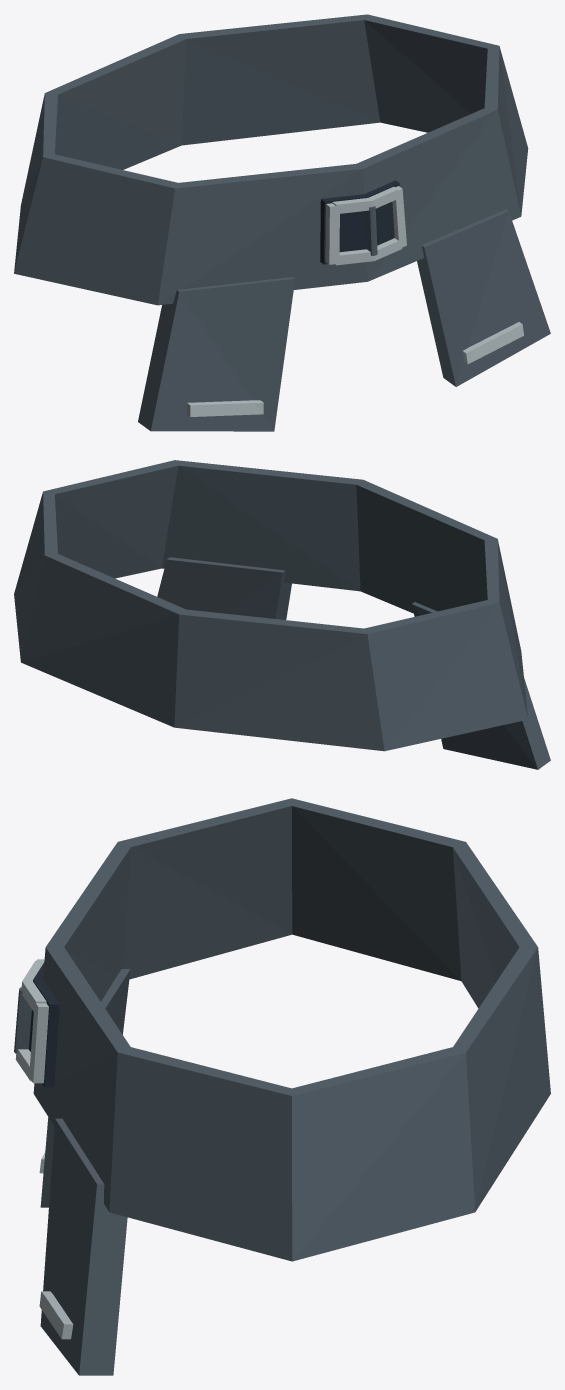
File: plate_waist-female.glb
3 views of the same model, one above another, from view 1: azimuth 30°, elevation 25°; view 2: azimuth 150°, elevation 25°; view 3: azimuth 270°, elevation 25° (orthographic). The views are drawn at different scales.
Visible parts, largest first — view 1: plate waist band, Articulated waist tasset -1, Articulated waist tasset 1, Buckle recessed backplate, Tasset rolled edge -1, Tasset rolled edge 1, Buckle side rail -0.145, Buckle cross rail 4.506, Buckle cross rail 4.294, Buckle side rail 0.145, Buckle pin; view 2: plate waist band, Articulated waist tasset 1, Articulated waist tasset -1; view 3: plate waist band, Articulated waist tasset 1, Articulated waist tasset -1, Buckle recessed backplate, Buckle side rail 0.145, Tasset rolled edge 1, Buckle pin.
Boxes of the visible parts, x1,y1,x2,y2 form: plate waist band: [14, 14, 528, 305]; Articulated waist tasset -1: [138, 277, 295, 431]; Articulated waist tasset 1: [417, 209, 550, 386]; Buckle recessed backplate: [320, 180, 399, 264]; Tasset rolled edge -1: [187, 400, 263, 416]; Tasset rolled edge 1: [462, 322, 523, 364]; Buckle side rail -0.145: [325, 203, 339, 264]; Buckle cross rail 4.506: [332, 186, 398, 214]; Buckle cross rail 4.294: [335, 238, 402, 265]; Buckle side rail 0.145: [392, 186, 406, 247]; Buckle pin: [365, 206, 377, 255]; plate waist band: [14, 460, 528, 751]; Articulated waist tasset 1: [157, 557, 291, 619]; Articulated waist tasset -1: [412, 602, 550, 769]; plate waist band: [33, 798, 550, 1261]; Articulated waist tasset 1: [40, 1118, 127, 1375]; Articulated waist tasset -1: [40, 969, 130, 1207]; Buckle recessed backplate: [28, 962, 59, 1087]; Buckle side rail 0.145: [30, 1003, 48, 1083]; Tasset rolled edge 1: [39, 1291, 73, 1339]; Buckle pin: [14, 987, 31, 1053].
Bounding box in the file's own units: 2.23 × 0.9891 × 1.51.
